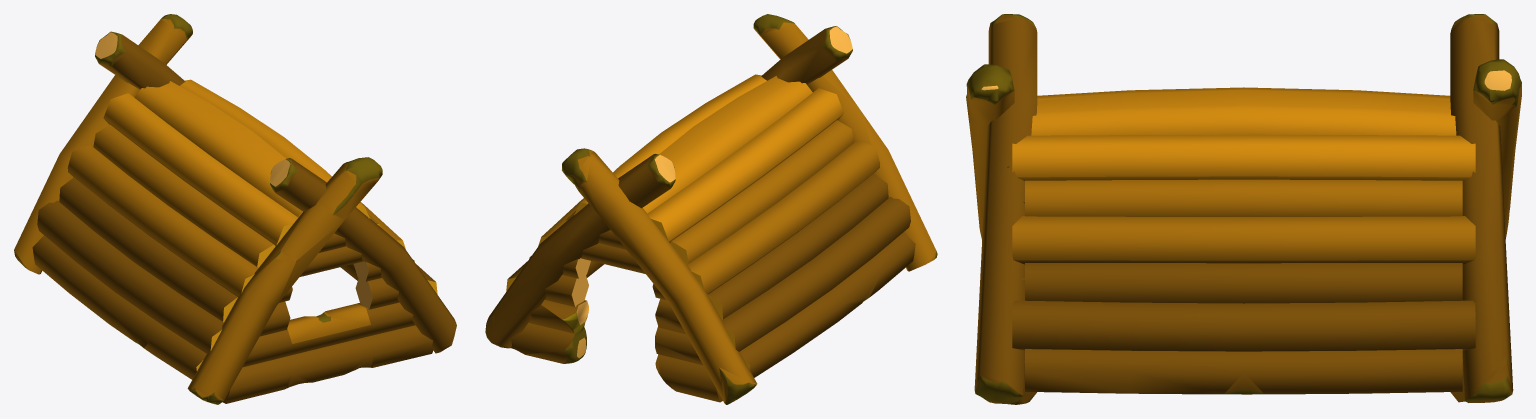
File: House.fbx
3 views of the same model, side by side, from view 1: azimuth 30°, elevation 25°; view 2: azimuth 150°, elevation 25°; view 3: azimuth 270°, elevation 25° (orthographic). The views are drawn at different scales.
Visible parts, largest first — view 1: House; view 2: House; view 3: House.
Boxes of the visible parts, box(x1,y1,x2,y2) form: House: box(14, 14, 456, 404); House: box(485, 14, 937, 404); House: box(966, 14, 1521, 404).
Size of the model in its own units: 290 by 235 by 394.
